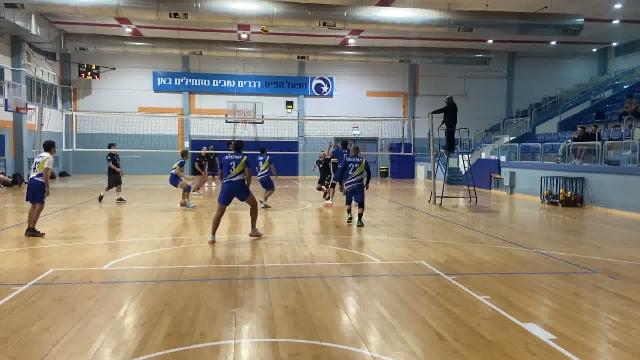ball: (261, 27, 272, 36)
